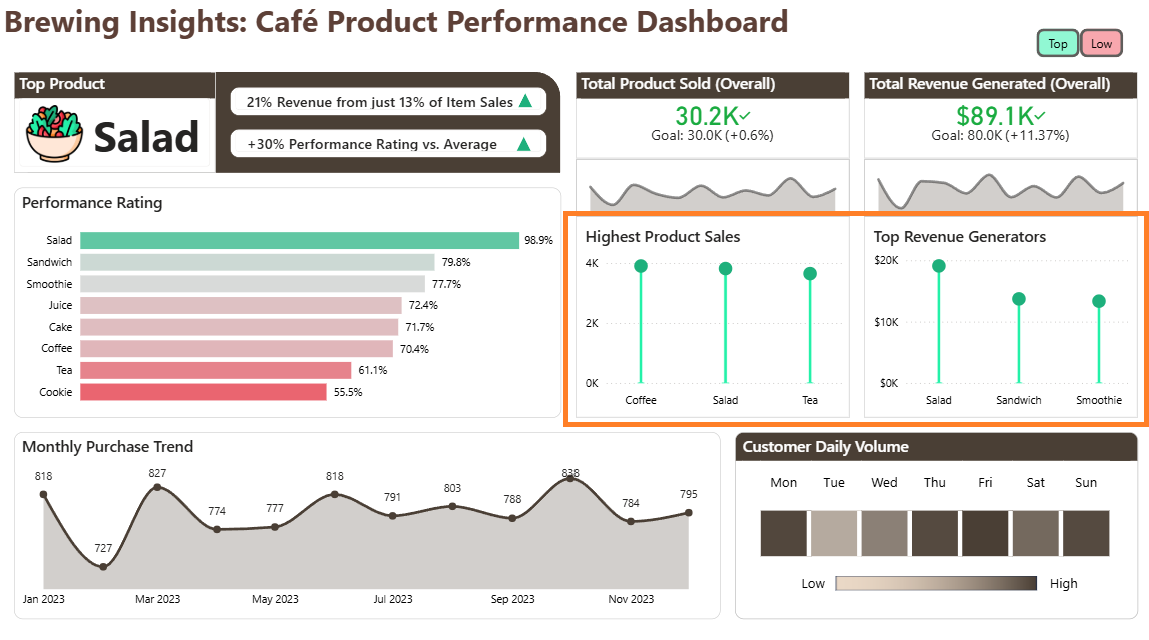

The page's visual inventory and layout, read from the dashboard file:
{"tool":"powerbi","page":{"name":"Page 1","canvas":[1280,720],"ordinal":0},"visuals":[{"type":"shape","box":[32,80,592,112],"z":0},{"type":"lineChart","fields":{"Category":["cafe_sales_clean.transaction_date.Variation.Date Hierarchy.Year","cafe_sales_clean.transaction_date.Variation.Date Hierarchy.Quarter","cafe_sales_clean.transaction_date.Variation.Date Hierarchy.Month"],"Y":["Sum(cafe_sales_clean.quantity)"]},"box":[640,176,304,64],"z":1000},{"type":"lineChart","title":"Monthly Purchase Trend","fields":{"Y":["CountNonNull(cafe_sales_clean.transaction_id)"],"Category":["cafe_sales_clean.transaction_date.Variation.Date Hierarchy.Year","cafe_sales_clean.transaction_date.Variation.Date Hierarchy.Quarter","cafe_sales_clean.transaction_date.Variation.Date Hierarchy.Month"]},"box":[16,480,784,208],"z":2000},{"type":"kpi","title":"Total Product Sold (Overall)","fields":{"Goal":["cafe_sales_clean.Target Product Sales"],"TrendLine":["cafe_sales_clean.transaction_date"],"Indicator":["cafe_sales_clean.Total Products Sold"]},"box":[640,80,304,96],"z":3000},{"type":"clusteredBarChart","title":"Performance Rating","fields":{"Category":["cafe_sales_clean.item"],"Y":["cafe_sales_clean.Performance Rating"]},"box":[16,208,608,256],"z":4000},{"type":"textbox","title":"Brewing Insights: Café Product Performance Dashboard","box":[0,0,1040,48],"z":5000},{"type":"lineChart","title":"Highest Product Sales","fields":{"Y":["Sum(cafe_sales_clean.quantity)"],"Category":["cafe_sales_clean.item"]},"box":[640,240,304,224],"z":6000},{"type":"lineChart","title":"Top Revenue Generators","fields":{"Y":["Sum(cafe_sales_clean.total_spent)"],"Category":["cafe_sales_clean.item"]},"box":[960,240,304,224],"z":7000},{"type":"cardVisual","title":"Top Product","fields":{"Data":["cafe_sales_clean.Top Item"]},"box":[16,80,224,112],"z":8000},{"type":"pivotTable","title":"Customer Daily Volume","fields":{"Columns":["cafe_sales_clean.DayName"],"Values":["cafe_sales_clean.Customer Volume"]},"box":[816,480,448,208],"z":9000},{"type":"image","box":[21,116,80,64],"z":10000},{"type":"cardVisual","fields":{"Data":["cafe_sales_clean.KPI RevenueQty Line"]},"box":[256,96,352,32],"z":11000},{"type":"shape","box":[576,104,16,16],"z":12000},{"type":"image","box":[928,640,224,16],"z":13000},{"type":"textbox","box":[882,632,336,48],"z":14000},{"type":"actionButton","title":"Top Performer","box":[1152,32,48,32],"z":17000},{"type":"actionButton","title":"Low Performer","box":[1200,32,48,32],"z":18000},{"type":"lineChart","fields":{"Category":["cafe_sales_clean.transaction_date.Variation.Date Hierarchy.Year","cafe_sales_clean.transaction_date.Variation.Date Hierarchy.Quarter","cafe_sales_clean.transaction_date.Variation.Date Hierarchy.Month"],"Y":["Sum(cafe_sales_clean.total_spent)"]},"box":[960,176,304,64],"z":19000},{"type":"cardVisual","fields":{"Data":["cafe_sales_clean.KPI Performance Line"]},"box":[256,144,352,32],"z":20000},{"type":"shape","box":[575,151,16,16],"z":21000},{"type":"kpi","title":"Total Revenue Generated (Overall)","fields":{"TrendLine":["cafe_sales_clean.transaction_date"],"Indicator":["cafe_sales_clean.Total Revenue Generated"],"Goal":["cafe_sales_clean.Target Revenue"]},"box":[960,80,304,96],"z":22000}]}

Visuals, with their boxes in screenshot pixels (x1, y1, x2, y2), scaled from the page's 1280x720 canvas onto the 1149x640 screenshot:
shape: box=[29, 71, 560, 171]
lineChart - cafe_sales_clean.transaction_date.Variation.Date Hierarchy.Year x cafe_sales_clean.transaction_date.Variation.Date Hierarchy.Quarter: box=[574, 156, 847, 213]
"Monthly Purchase Trend" lineChart: box=[14, 427, 718, 612]
"Total Product Sold (Overall)" kpi: box=[574, 71, 847, 156]
"Performance Rating" clusteredBarChart: box=[14, 185, 560, 412]
"Brewing Insights: Café Product Performance Dashboard" textbox: box=[0, 0, 934, 43]
"Highest Product Sales" lineChart: box=[574, 213, 847, 412]
"Top Revenue Generators" lineChart: box=[862, 213, 1135, 412]
"Top Product" cardVisual: box=[14, 71, 215, 171]
"Customer Daily Volume" pivotTable: box=[732, 427, 1135, 612]
image: box=[19, 103, 91, 160]
cardVisual - cafe_sales_clean.KPI RevenueQty Line: box=[230, 85, 546, 114]
shape: box=[517, 92, 531, 107]
image: box=[833, 569, 1034, 583]
textbox: box=[792, 562, 1093, 604]
"Top Performer" actionButton: box=[1034, 28, 1077, 57]
"Low Performer" actionButton: box=[1077, 28, 1120, 57]
lineChart - cafe_sales_clean.transaction_date.Variation.Date Hierarchy.Year x cafe_sales_clean.transaction_date.Variation.Date Hierarchy.Quarter: box=[862, 156, 1135, 213]
cardVisual - cafe_sales_clean.KPI Performance Line: box=[230, 128, 546, 156]
shape: box=[516, 134, 531, 148]
"Total Revenue Generated (Overall)" kpi: box=[862, 71, 1135, 156]
